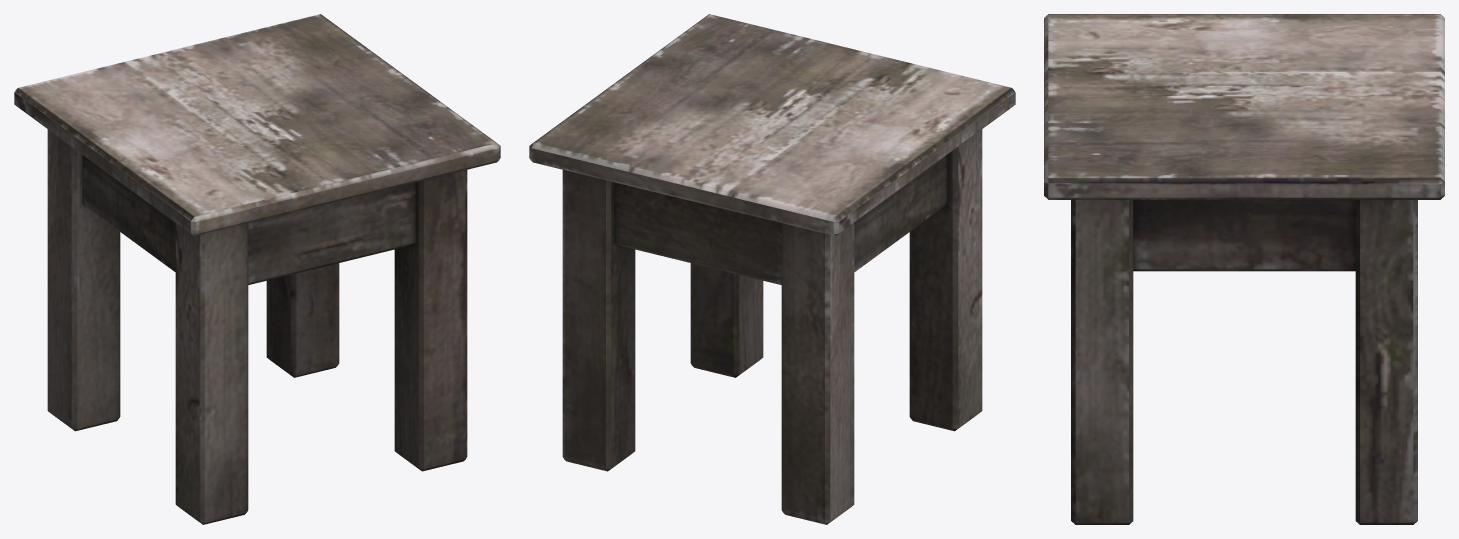
The model's file is stool_wood.dae.
3 views of the same model, side by side, from view 1: azimuth 30°, elevation 25°; view 2: azimuth 150°, elevation 25°; view 3: azimuth 270°, elevation 25° (orthographic). The views are drawn at different scales.
Parts seen in each view (by area): view 1: polySurface1; view 2: polySurface1; view 3: polySurface1.
Boxes of the visible parts, left/top/right/bottom form: polySurface1: left=14, top=14, right=500, bottom=524; polySurface1: left=529, top=14, right=1015, bottom=524; polySurface1: left=1044, top=14, right=1444, bottom=524.
Bounding box in the file's own units: 0.5528 × 0.5492 × 0.5572.
